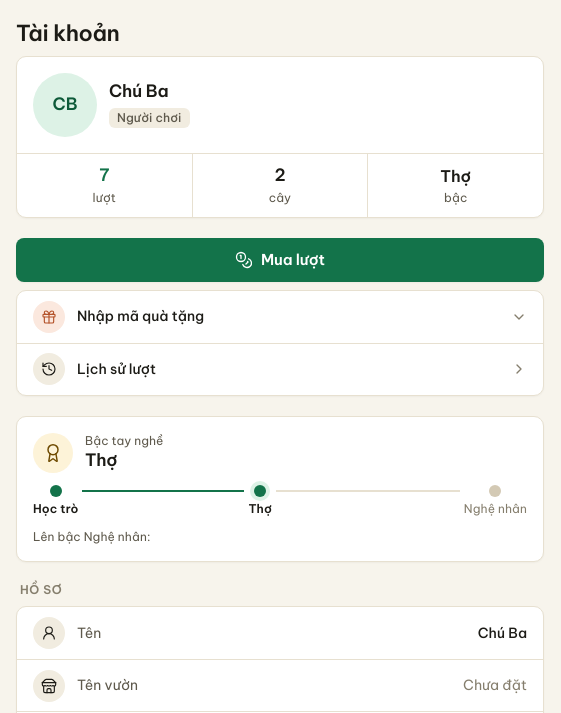
Test: Account hero › shows credits, tree count and skill level; gift code folds open
Expected: the element named "Hồ sơ của bạn" shows "Chú Ba", [109,80,168,102]
Click the button "Nhập mã quà tặng".
click(49, 317)  # box [17,291,543,343]
(page scrolled)
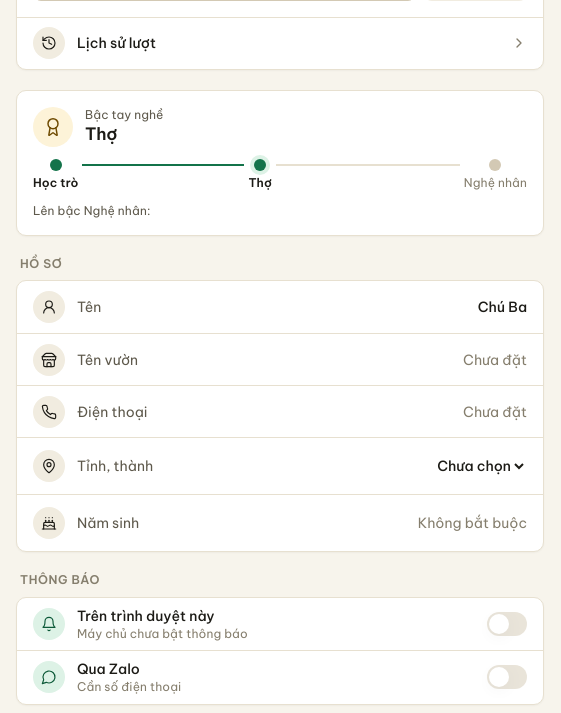
Expected: the button "Lưu hồ sơ" is not shown
Type "Vườn Ba" into the field labelled "Tên vườn".
click(356, 360); type("Vườn Ba")  # box [185,338,527,382]
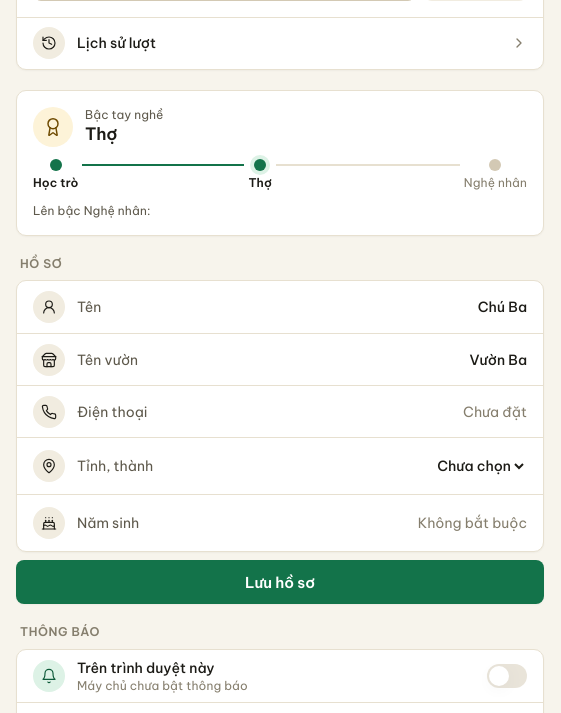
Now the button "Lưu hồ sơ" is shown, box [16,560,544,604]
